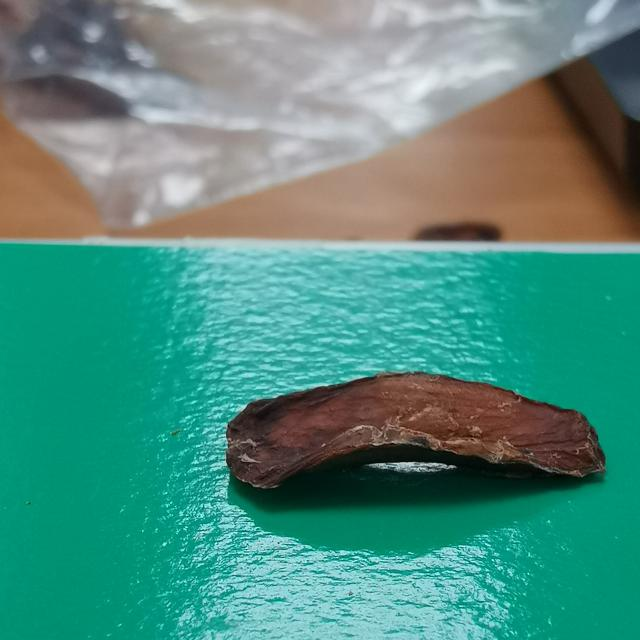Flat_cocoabeans: (115, 331, 640, 606)
